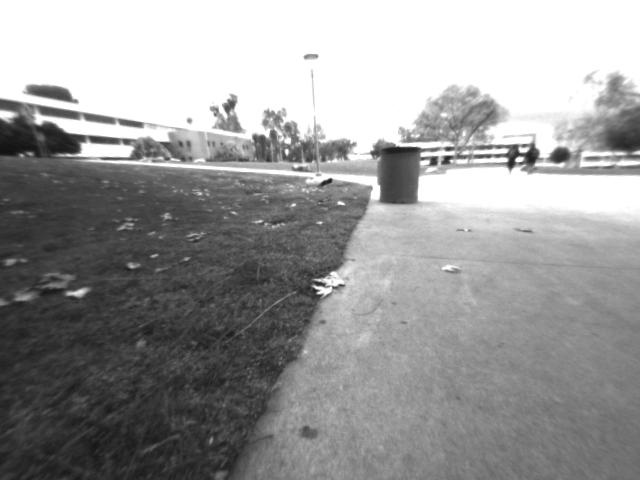trashcan: (383, 146, 421, 206)
